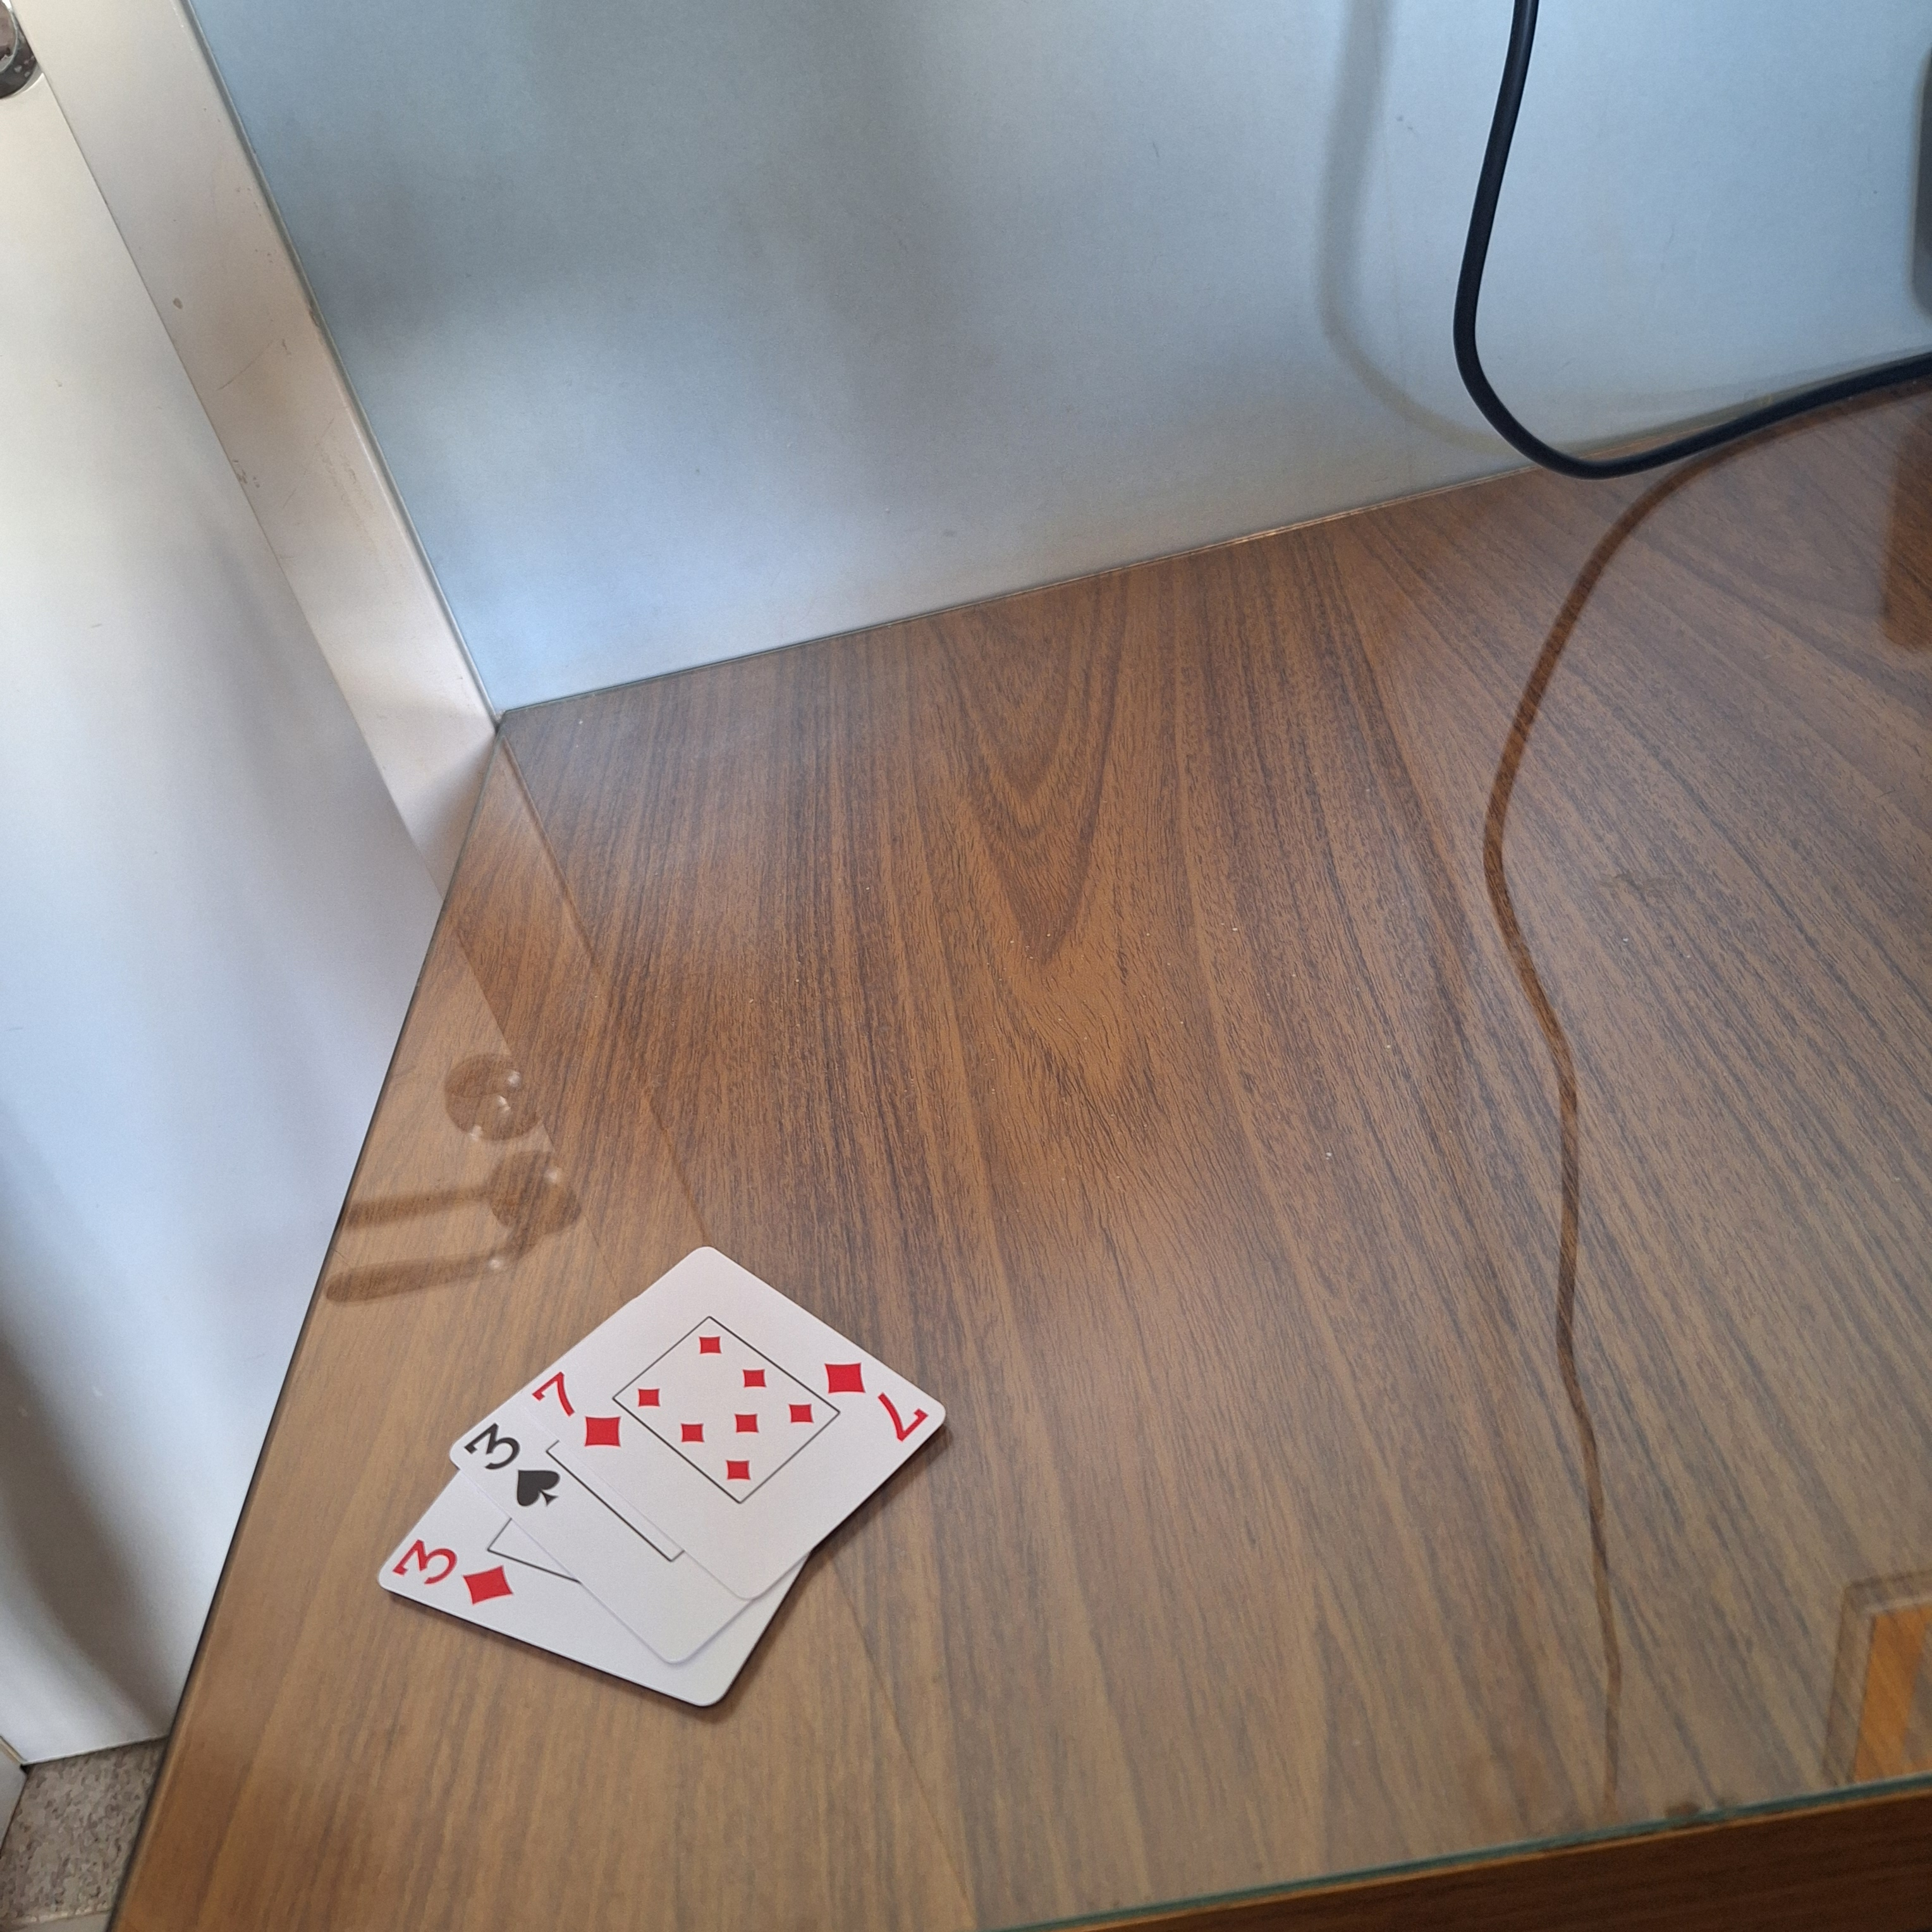3E: (455, 1414, 564, 1513)
3O: (382, 1532, 520, 1619)
7O: (819, 1353, 936, 1444), (525, 1366, 626, 1456)
